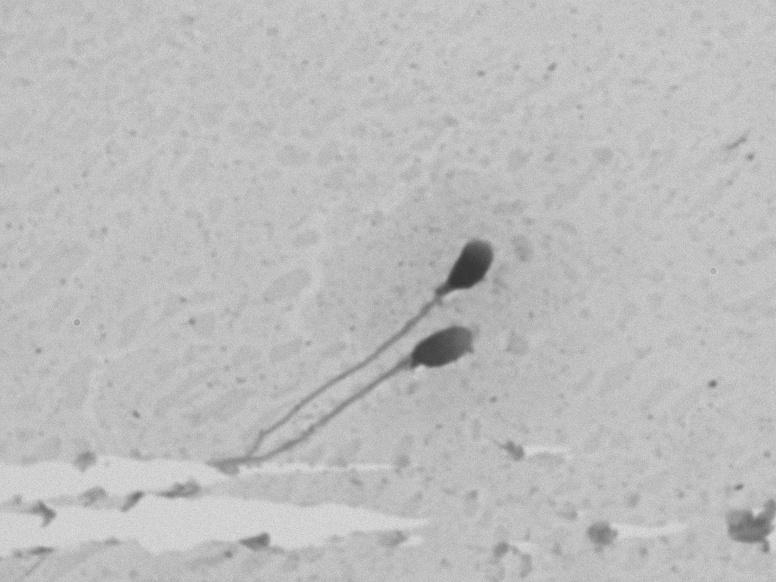Abnormal: (206, 207, 512, 512)
